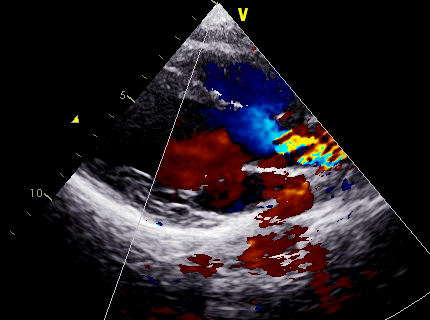AR: (194, 109, 302, 170)
